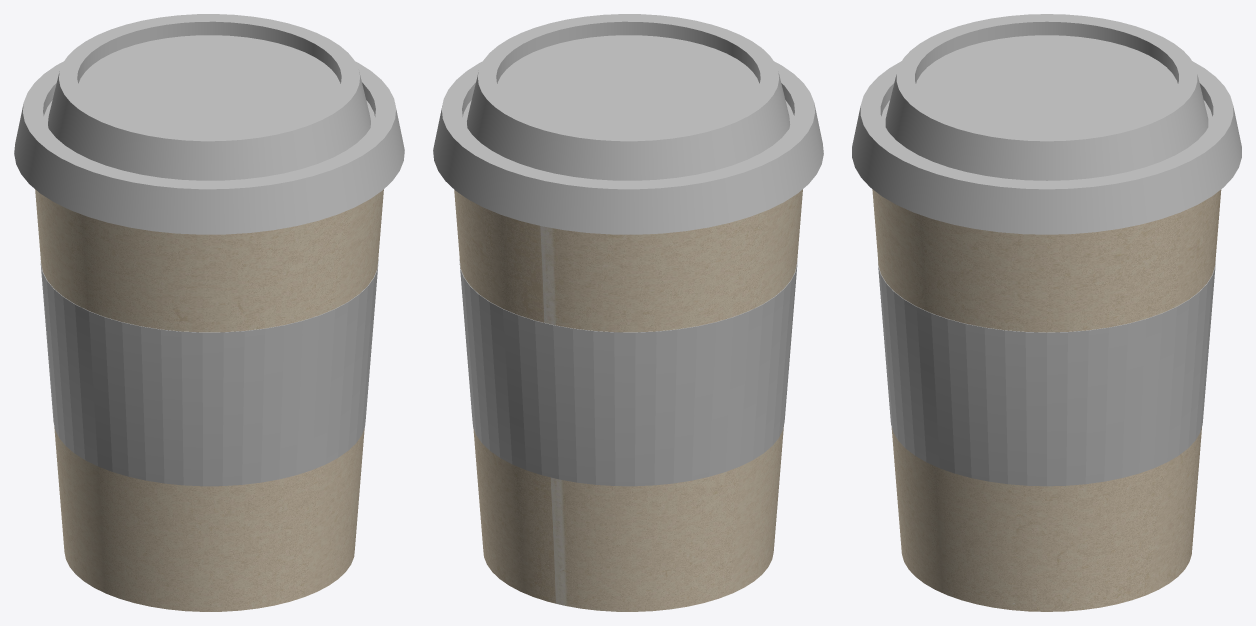
The picture shows the model from 3 angles, left to right: view 1: azimuth 30°, elevation 25°; view 2: azimuth 150°, elevation 25°; view 3: azimuth 270°, elevation 25°; orthographic projection.
Visible parts, largest first — view 1: Cup, Lid, Label; view 2: Cup, Lid, Label; view 3: Cup, Lid, Label.
Part boxes in pixels (box(x1,y1,x2,y2)): Cup: box(35, 189, 383, 611); Lid: box(14, 14, 404, 234); Label: box(40, 259, 378, 486); Cup: box(454, 189, 802, 611); Lid: box(433, 14, 823, 234); Label: box(459, 259, 797, 486); Cup: box(872, 189, 1221, 611); Lid: box(852, 14, 1241, 234); Label: box(878, 261, 1215, 486).
Size of the model in its own units: 55.06 by 73.53 by 54.95.
